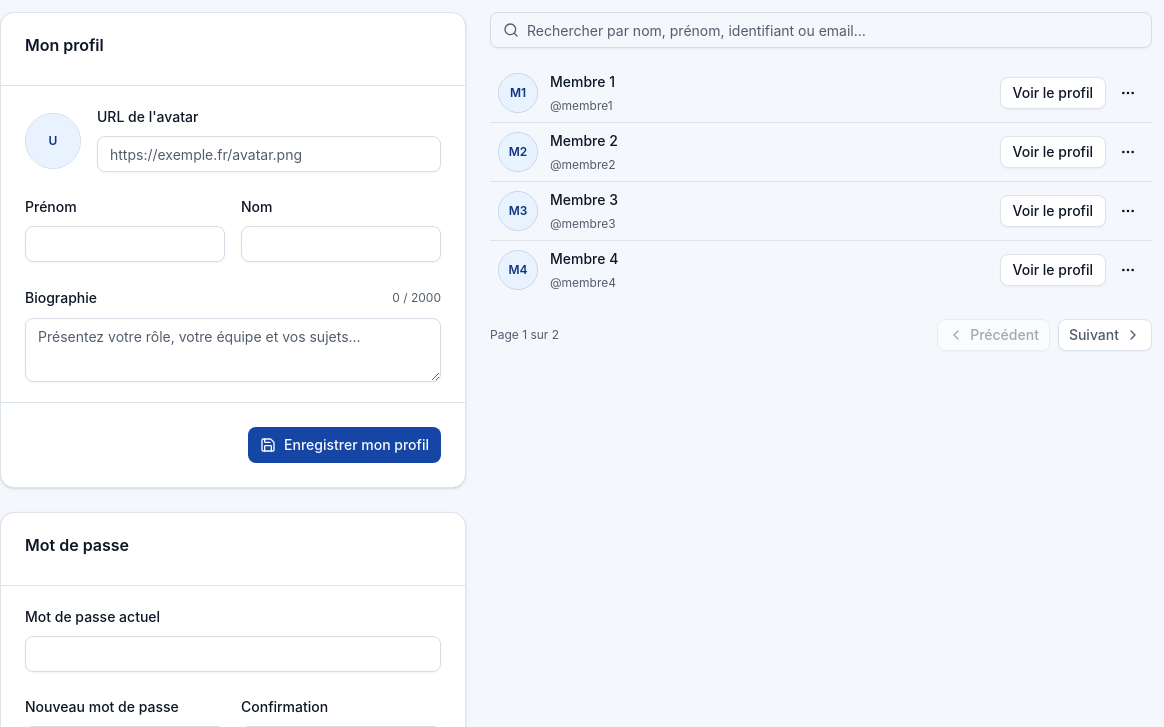
Scenario: DirectoryProfilePanel (T30) › affiche la liste simple renvoyée par Spring même sans la route de session JSON
The width and height of the screenshot is (1164, 727).
expect the text "Membre 1" is shown: met, box [550,72,615,92]
Click the button with aria-label "Page suivante de l'annuaire".
click(1105, 335)  # box [1058,319,1152,351]
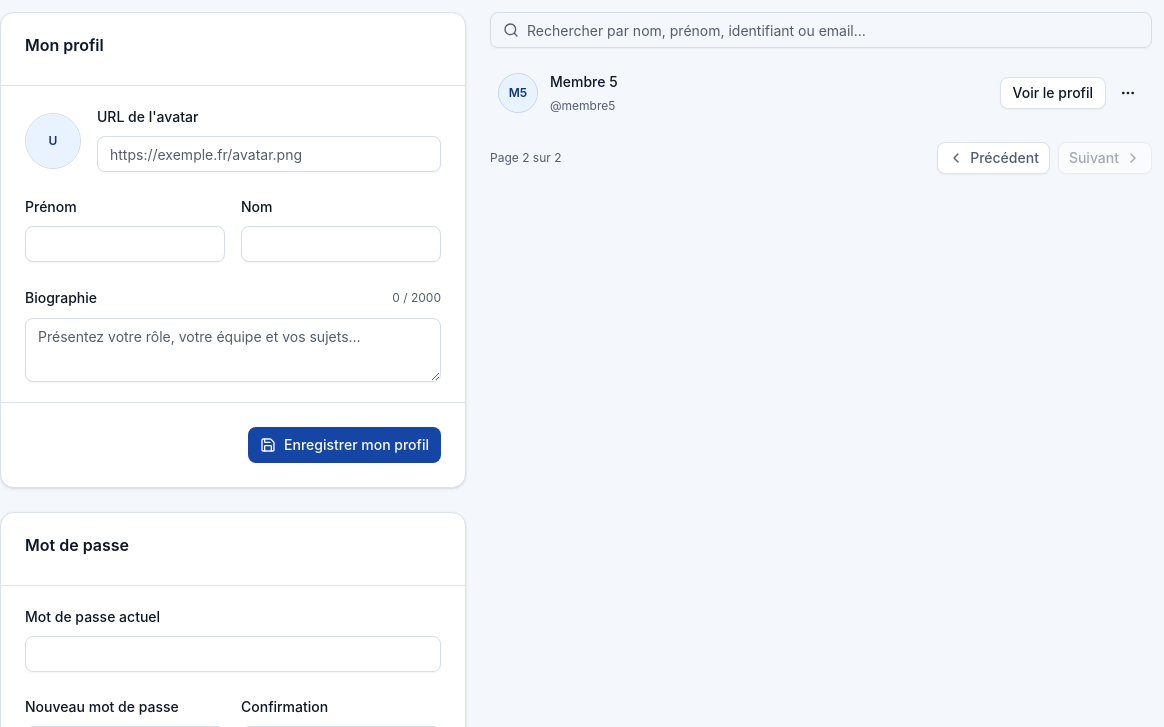
expect the text "Membre 5" is shown: met, box [550,72,618,92]
expect the text "Membre 1" is gone: met
